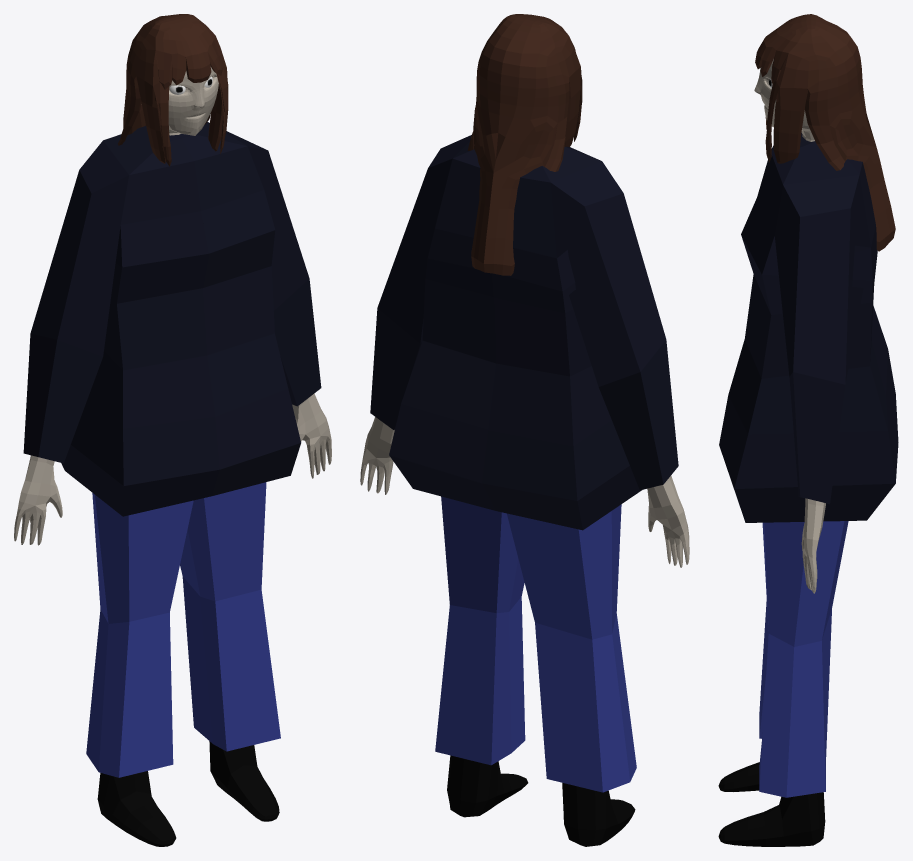
File: female3.fbx
3 views of the same model, side by side, from view 1: azimuth 30°, elevation 25°; view 2: azimuth 150°, elevation 25°; view 3: azimuth 270°, elevation 25° (orthographic). The views are drawn at different scales.
Visible parts, largest first — view 1: sweater_female, pants_female, human, long hair; view 2: sweater_female, pants_female, long hair, human; view 3: sweater_female, pants_female, long hair, human.
Boxes of the visible parts, box(x1,y1,x2,y2) form: sweater_female: box(23, 122, 321, 516); pants_female: box(86, 482, 280, 777); human: box(14, 67, 331, 846); long hair: box(118, 14, 228, 166); sweater_female: box(370, 135, 678, 530); pants_female: box(435, 496, 636, 792); long hair: box(467, 14, 582, 275); human: box(360, 417, 689, 846); sweater_female: box(719, 132, 898, 522); pants_female: box(759, 521, 848, 797); long hair: box(755, 14, 895, 251); human: box(718, 59, 825, 846).
Size of the model in its own units: 320 by 756 by 155.
Materials: 4 (1 with a texture image).
